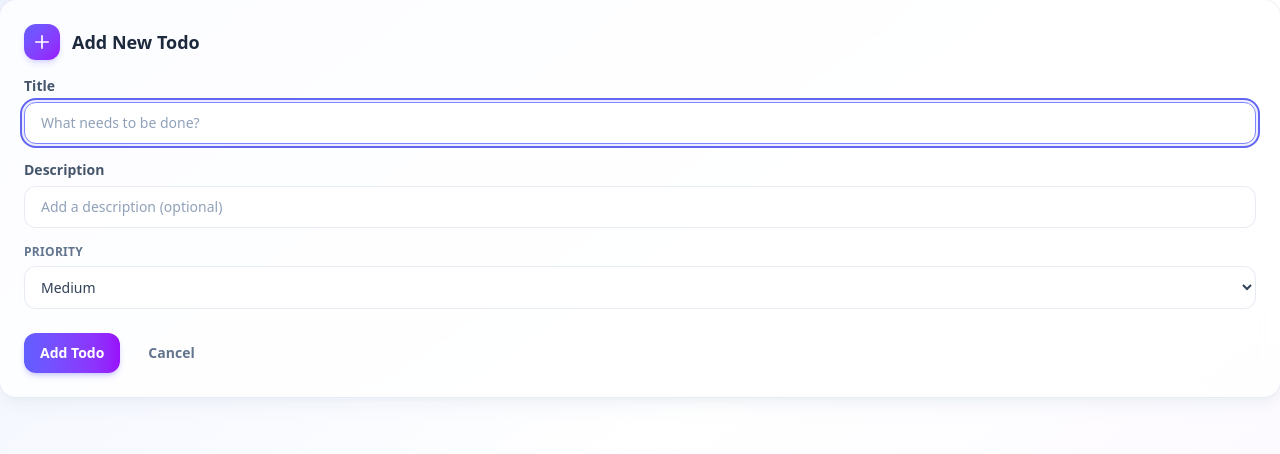
Test: TodoForm › Create mode › shows error when title is empty
Click the button "Add Todo".
click(72, 353)  # box [24,333,120,373]
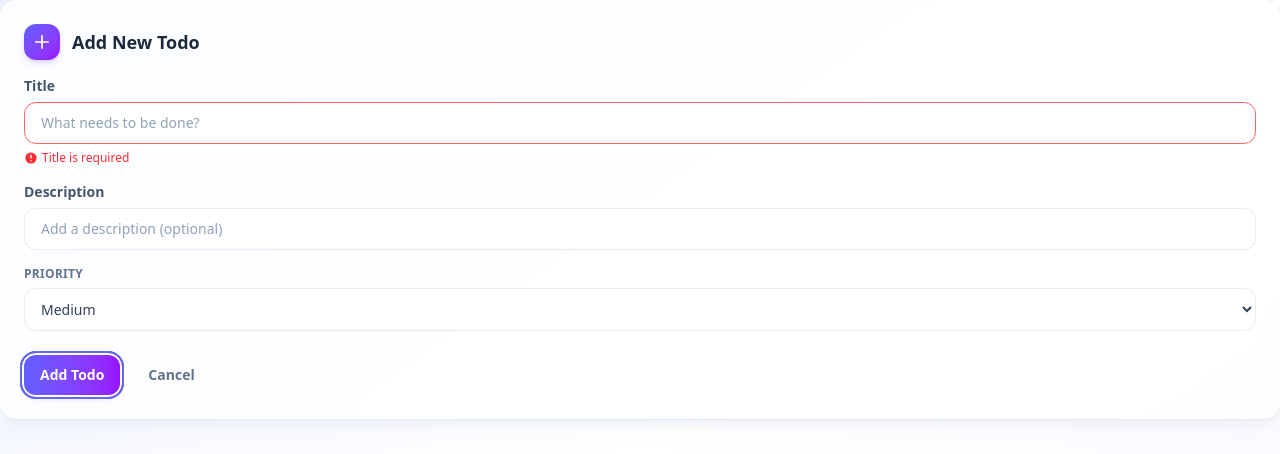
Check: the text "Title is required" is shown, box [24,149,129,166]
